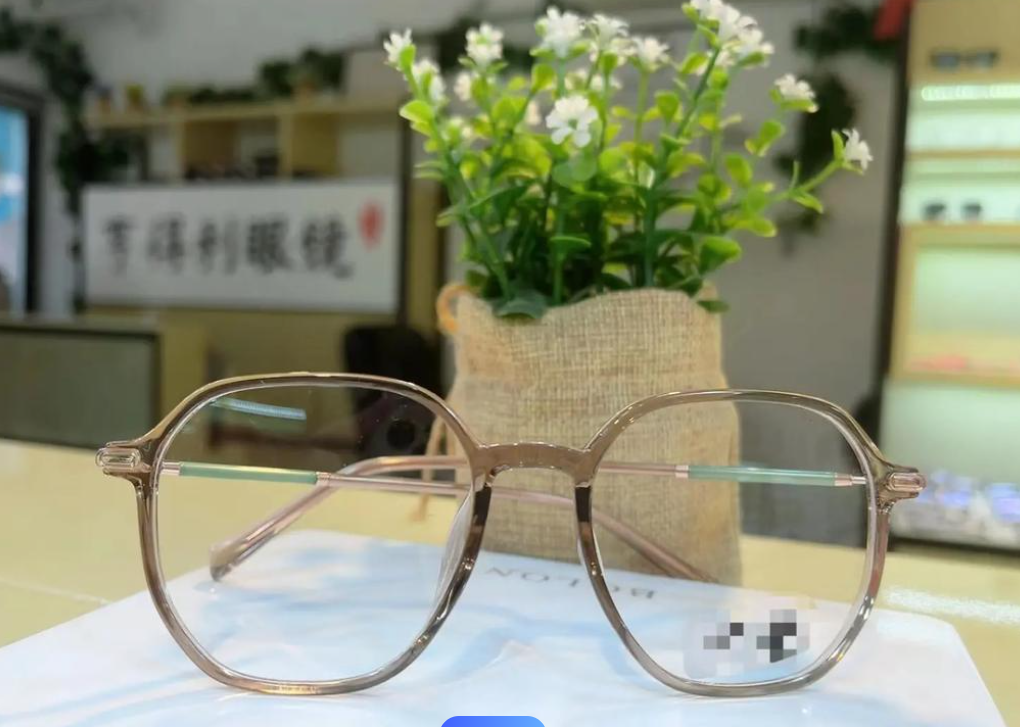glass: (95, 346, 942, 705)
